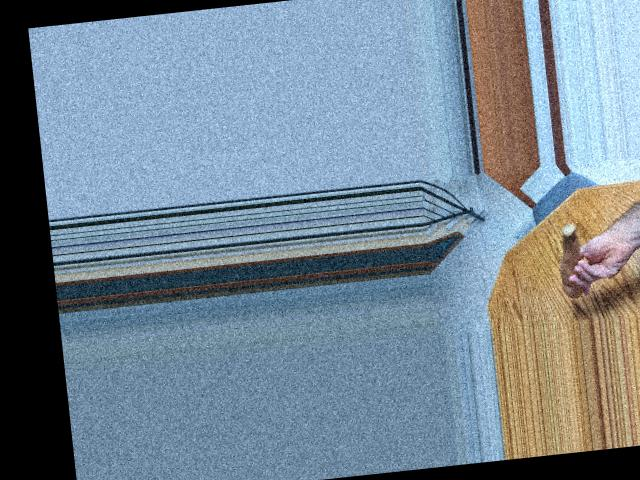sweet_potato: (555, 221, 591, 296)
